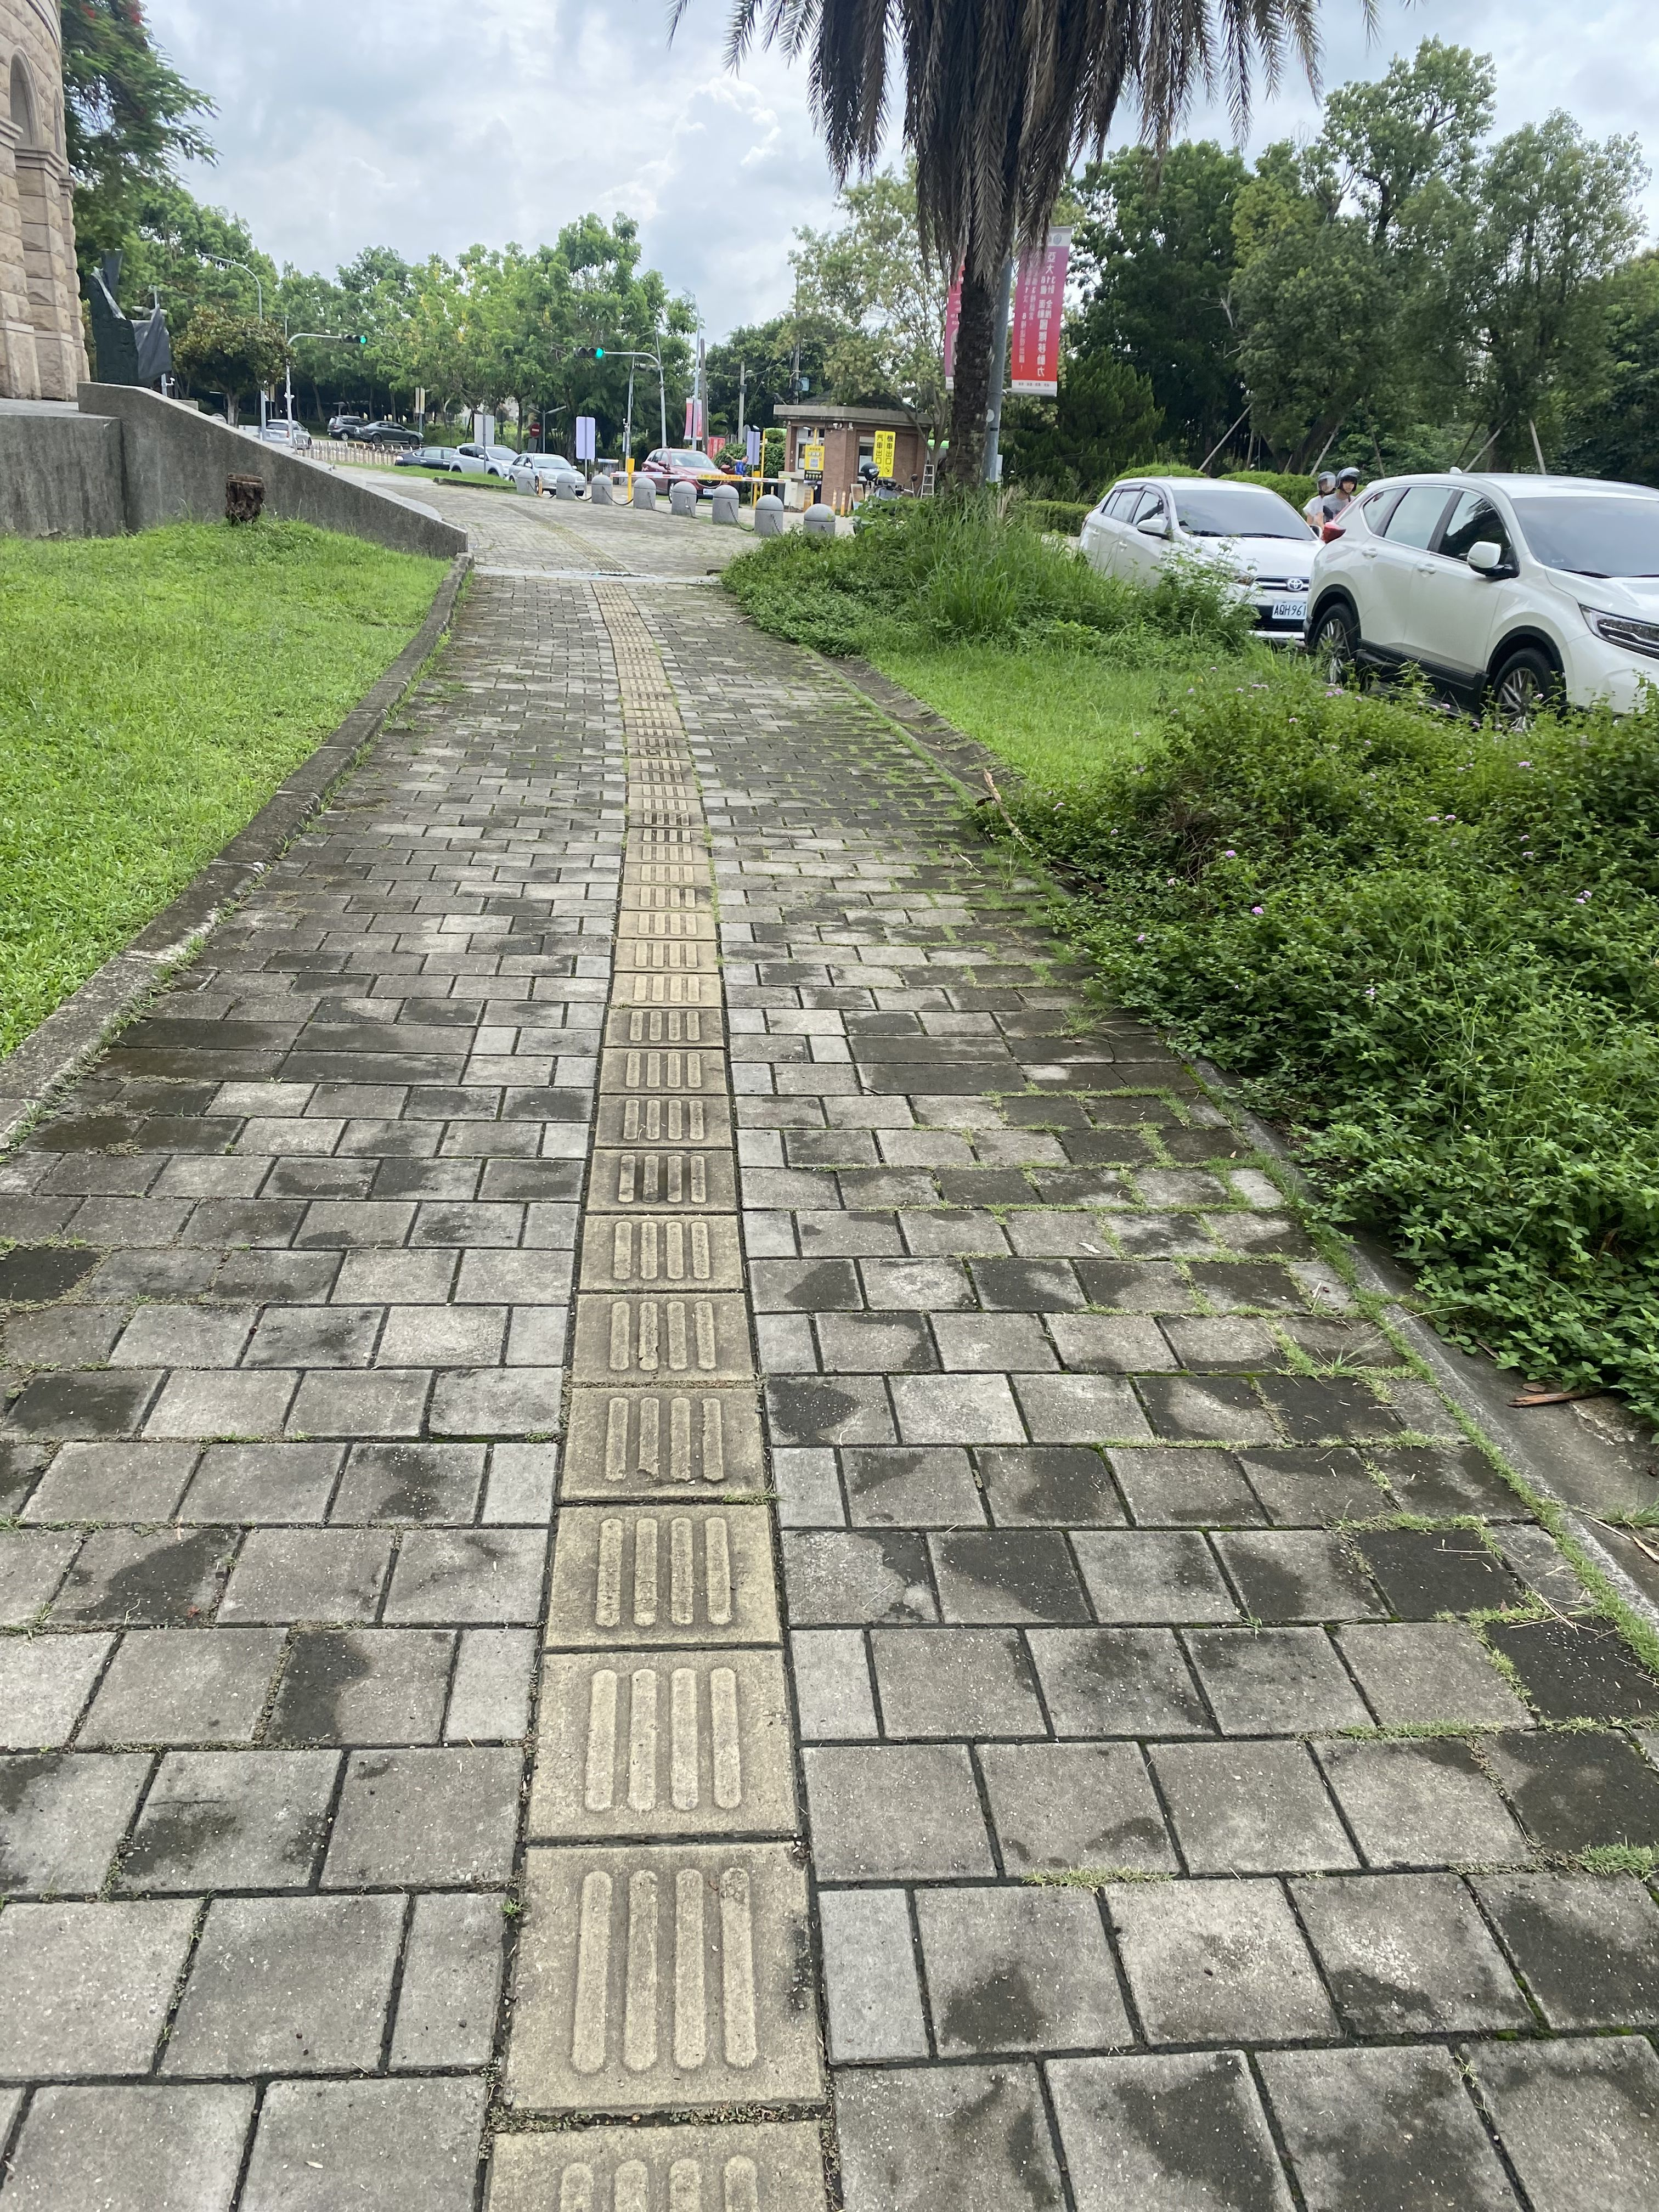0: (0, 789, 1659, 2212)
sidewalk: (282, 460, 1042, 1468)
